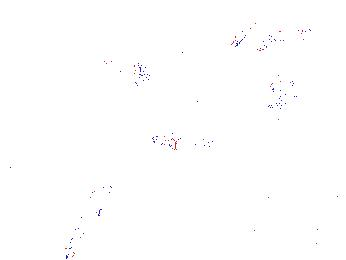X-ray fish: (86, 54, 151, 92)
glassfish: (66, 165, 122, 251), (149, 128, 257, 163)
red belly glassfish: (260, 103, 298, 123), (266, 76, 295, 100)
redtail glassfish: (223, 20, 312, 50)
